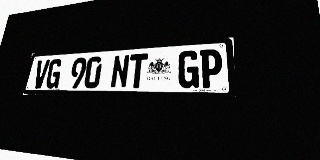0: (83, 56, 103, 88)
9: (68, 57, 88, 88)
G: (177, 50, 199, 88), (45, 59, 63, 88)
N: (110, 54, 130, 88)
P: (200, 49, 223, 88)
T: (127, 53, 148, 88)
V: (32, 59, 50, 88)
